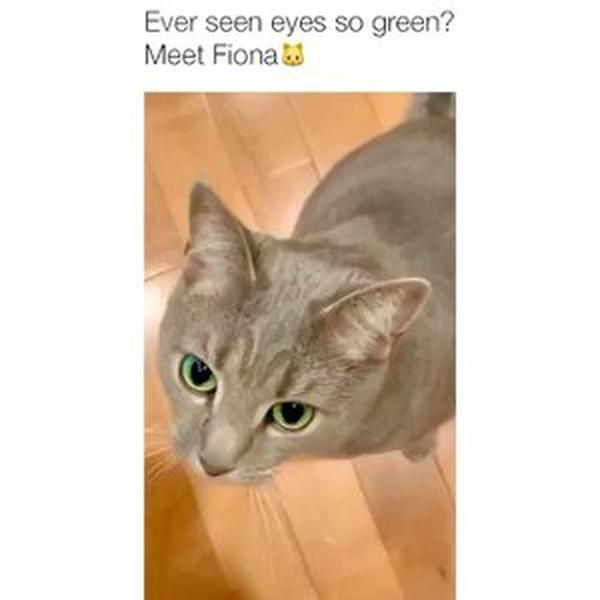michi: (154, 103, 457, 508)
